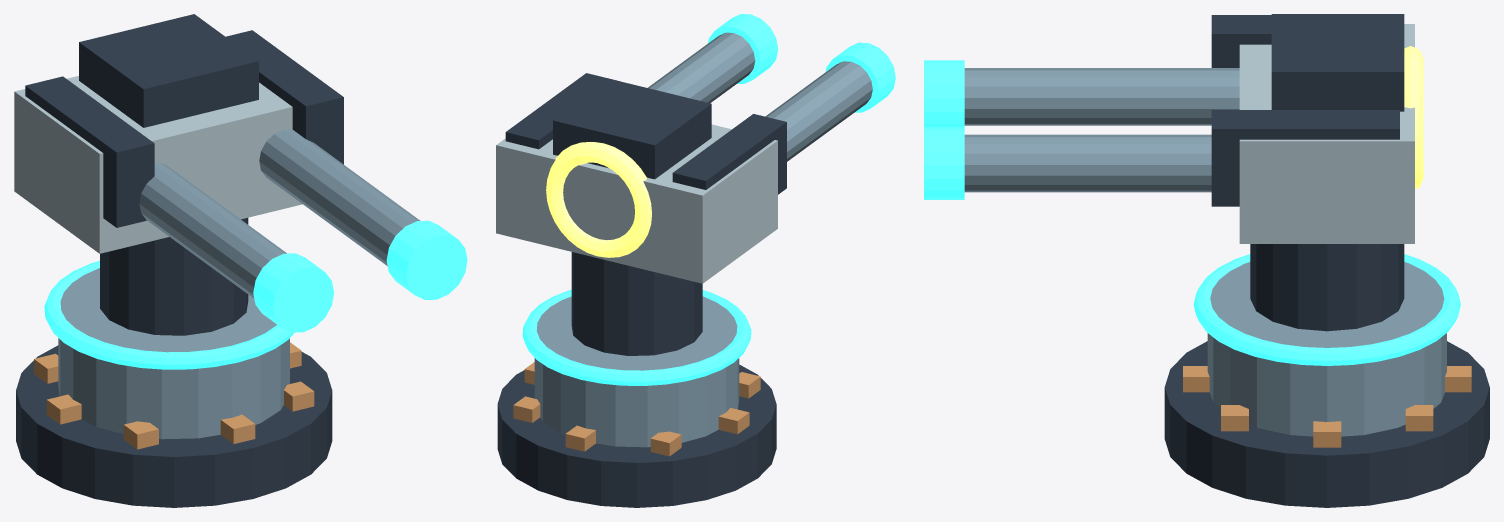
File: pulse_sprinter.glb
The picture shows the model from 3 angles, left to right: view 1: azimuth 30°, elevation 25°; view 2: azimuth 150°, elevation 25°; view 3: azimuth 270°, elevation 25°; orthographic projection. The views are drawn at different scales.
Parts seen in each view (by area): view 1: Circular reinforced plinth, Twin repeater protective shell, Titanium center, Engine's armored lid, Rotating servo head, Rapid repeat barrel.001, Rapid repeat barrel, Outer heatshield, Outer heatshield.001, Charged bearing, Plasma muzzle, Plasma muzzle.001 (+5 smaller); view 2: Twin repeater protective shell, Circular reinforced plinth, Titanium center, Rotating servo head, Engine's armored lid, Rear coil, Charged bearing, Rapid repeat barrel, Outer heatshield, Rapid repeat barrel.001, Outer heatshield.001, Plasma muzzle (+6 smaller); view 3: Circular reinforced plinth, Titanium center, Twin repeater protective shell, Rapid repeat barrel, Rapid repeat barrel.001, Engine's armored lid, Rotating servo head, Outer heatshield.001, Charged bearing, Plasma muzzle.001, Plasma muzzle, Outer heatshield (+6 smaller).
Boxes of the visible parts, box(x1,y1,x2,y2) form: Circular reinforced plinth: box(16, 345, 332, 507); Twin repeater protective shell: box(14, 76, 302, 253); Titanium center: box(58, 268, 289, 439); Engine's armored lid: box(79, 14, 258, 127); Rotating servo head: box(100, 218, 248, 335); Rapid repeat barrel.001: box(259, 129, 420, 265); Rapid repeat barrel: box(139, 162, 286, 298); Outer heatshield: box(25, 76, 154, 227); Outer heatshield.001: box(226, 30, 343, 164); Charged bearing: box(44, 260, 294, 369); Plasma muzzle: box(253, 253, 334, 332); Plasma muzzle.001: box(386, 220, 467, 299); Twin repeater protective shell: box(496, 124, 777, 283); Circular reinforced plinth: box(497, 364, 776, 507); Titanium center: box(534, 296, 739, 447); Rotating servo head: box(571, 252, 702, 355); Engine's armored lid: box(553, 79, 711, 179); Rear coil: box(546, 142, 651, 257); Charged bearing: box(522, 289, 751, 385); Rapid repeat barrel: box(765, 61, 872, 161); Outer heatshield: box(672, 114, 786, 194); Rapid repeat barrel.001: box(648, 32, 755, 103); Outer heatshield.001: box(505, 73, 612, 149); Plasma muzzle: box(825, 42, 895, 112); Circular reinforced plinth: box(1164, 341, 1489, 507); Titanium center: box(1207, 262, 1446, 436); Twin repeater protective shell: box(1239, 24, 1414, 243); Rapid repeat barrel: box(964, 68, 1239, 125); Rapid repeat barrel.001: box(964, 134, 1211, 192); Engine's armored lid: box(1271, 14, 1404, 111); Rotating servo head: box(1250, 244, 1404, 331); Outer heatshield.001: box(1211, 110, 1399, 206); Charged bearing: box(1193, 254, 1460, 365); Plasma muzzle.001: box(924, 127, 964, 199); Plasma muzzle: box(924, 60, 964, 127); Outer heatshield: box(1211, 15, 1271, 67).
Size of the model in its own units: 1.52 by 2.05 by 2.64.
